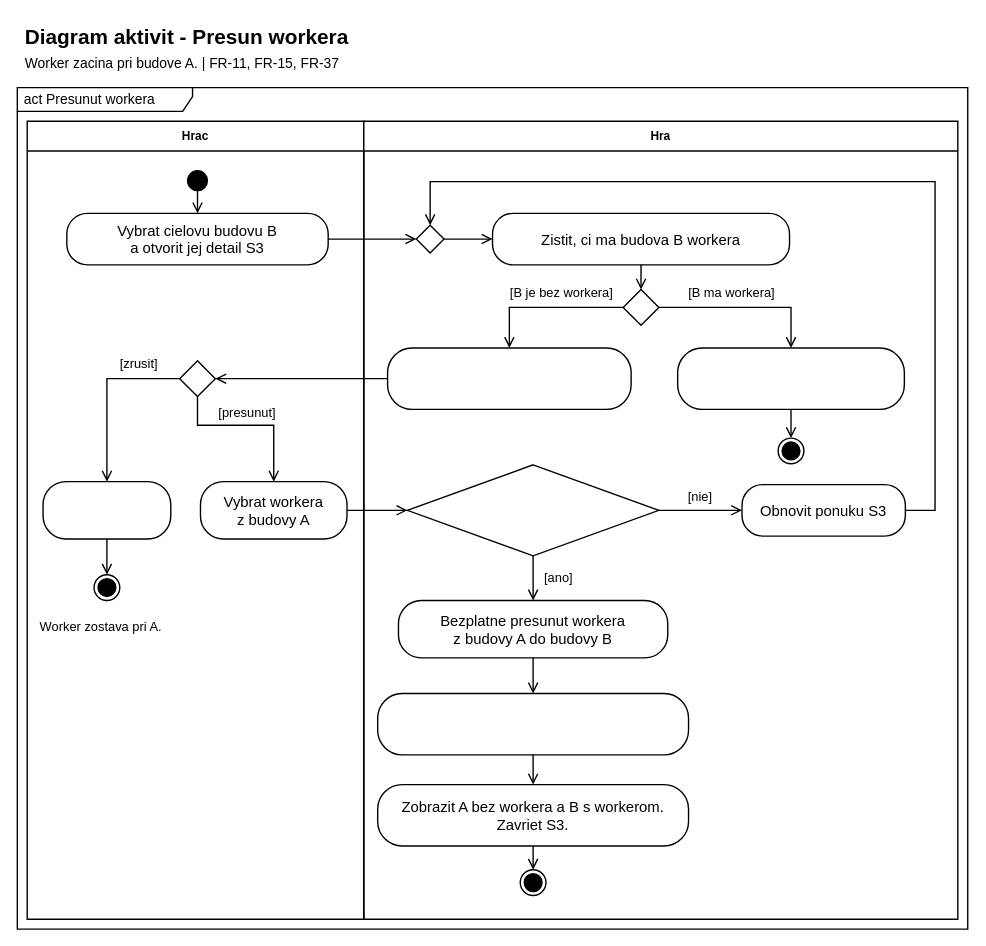
Image size: 986x946. Some labels were removed from this diagram. The box of each missing label's shape, as (x1, y1, x2, y2) in pixels:
Ihned upravit rychlost obsluhy v A aj B, aj pre uz sediacich hosti: (376, 692, 689, 755)
Je presun z A do B stale mozny?: (406, 464, 659, 556)
Ponuknut presun z budov, ktore maju workera: (386, 347, 631, 410)
Zobrazit, ze B uz ma workera. Presun neponuknut.: (676, 347, 905, 410)
Zrusit vyber a zavriet S3: (42, 480, 171, 539)
